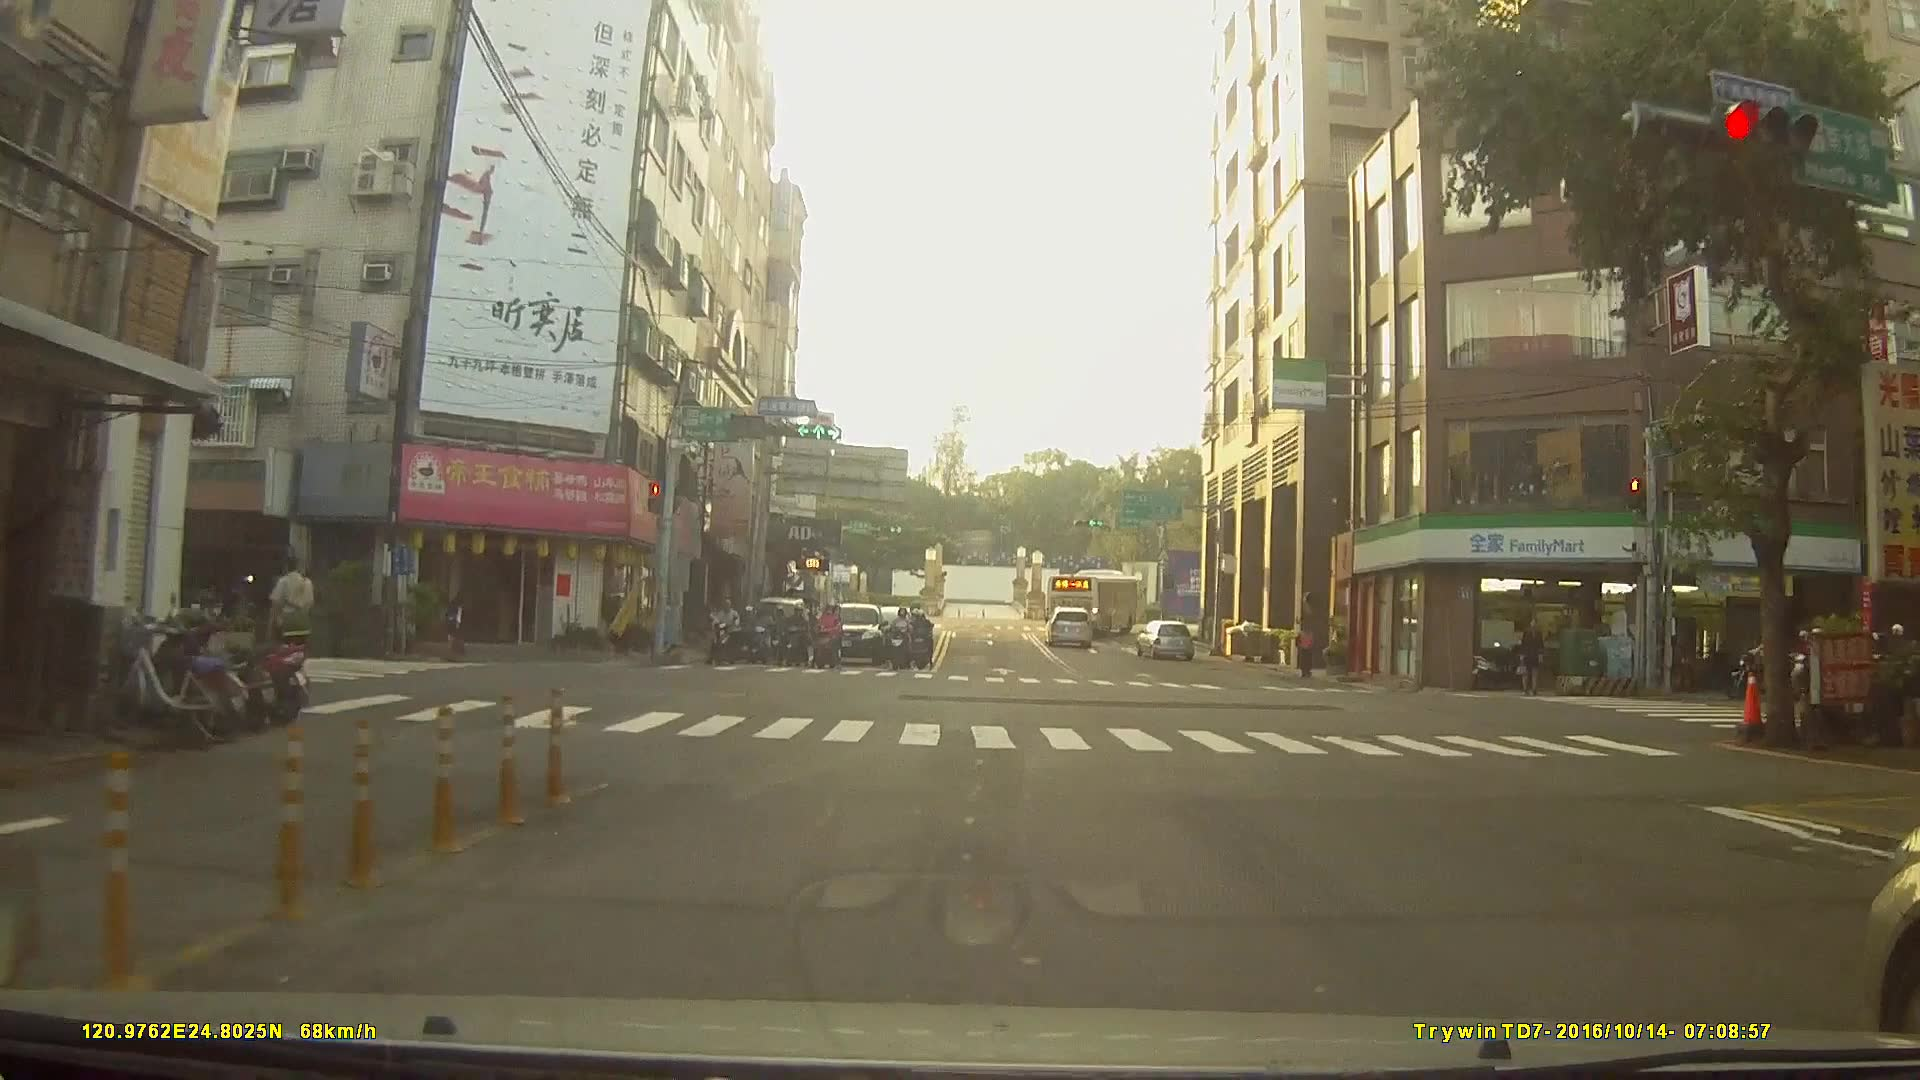pedestrian: (263, 543, 322, 688), (1521, 622, 1548, 699), (446, 597, 473, 661), (1294, 623, 1317, 681)
rider: (708, 599, 743, 667), (814, 603, 846, 674), (780, 606, 812, 667), (748, 595, 776, 654), (912, 604, 938, 669), (889, 607, 913, 674)
vehicle: (1043, 571, 1141, 633), (817, 599, 887, 668), (1133, 620, 1195, 661), (1045, 606, 1096, 650)
